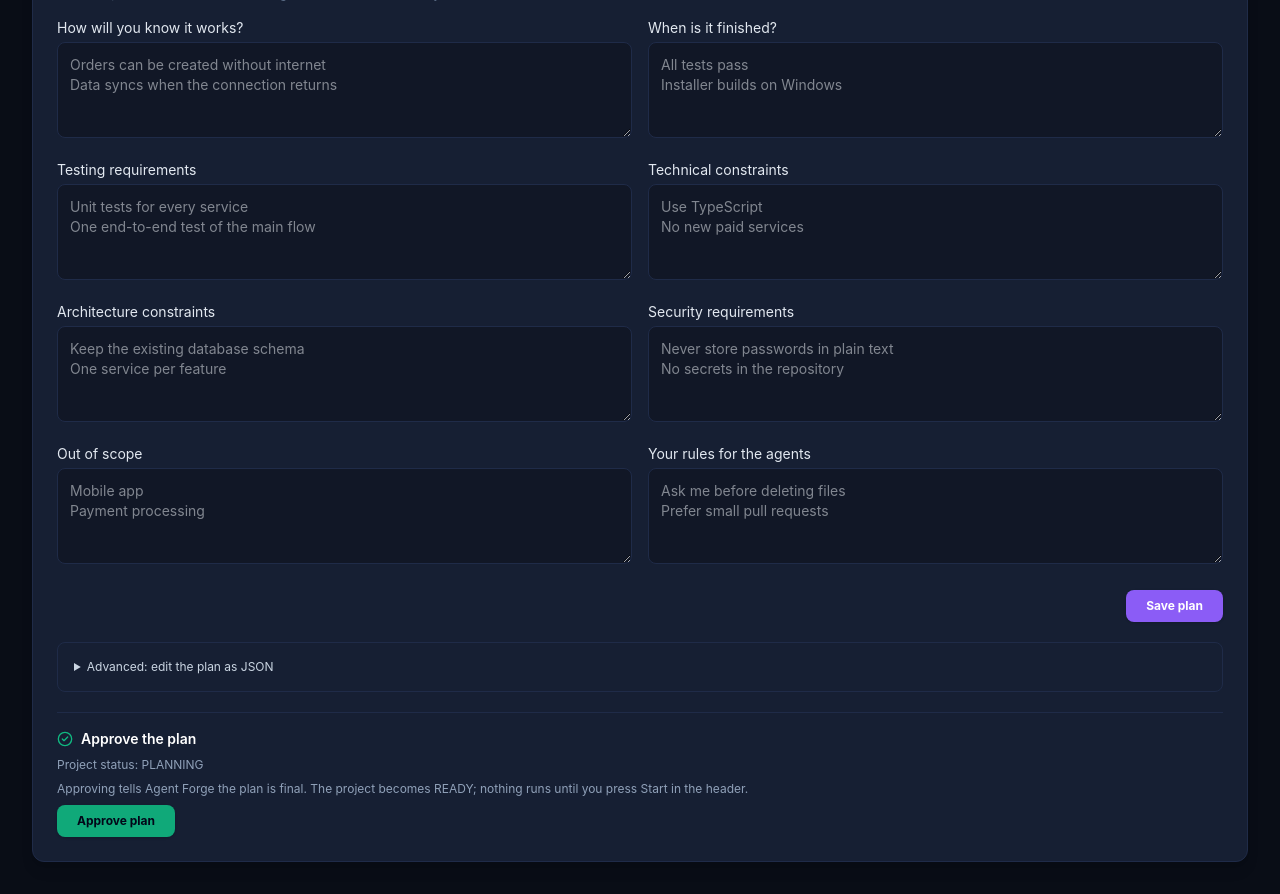
Scenario: guided plan form and approval through the real view › reports a rejected approval instead of claiming success
(page scrolled)
Click the button "Approve plan" at (116, 820), box [57,804,175,836]
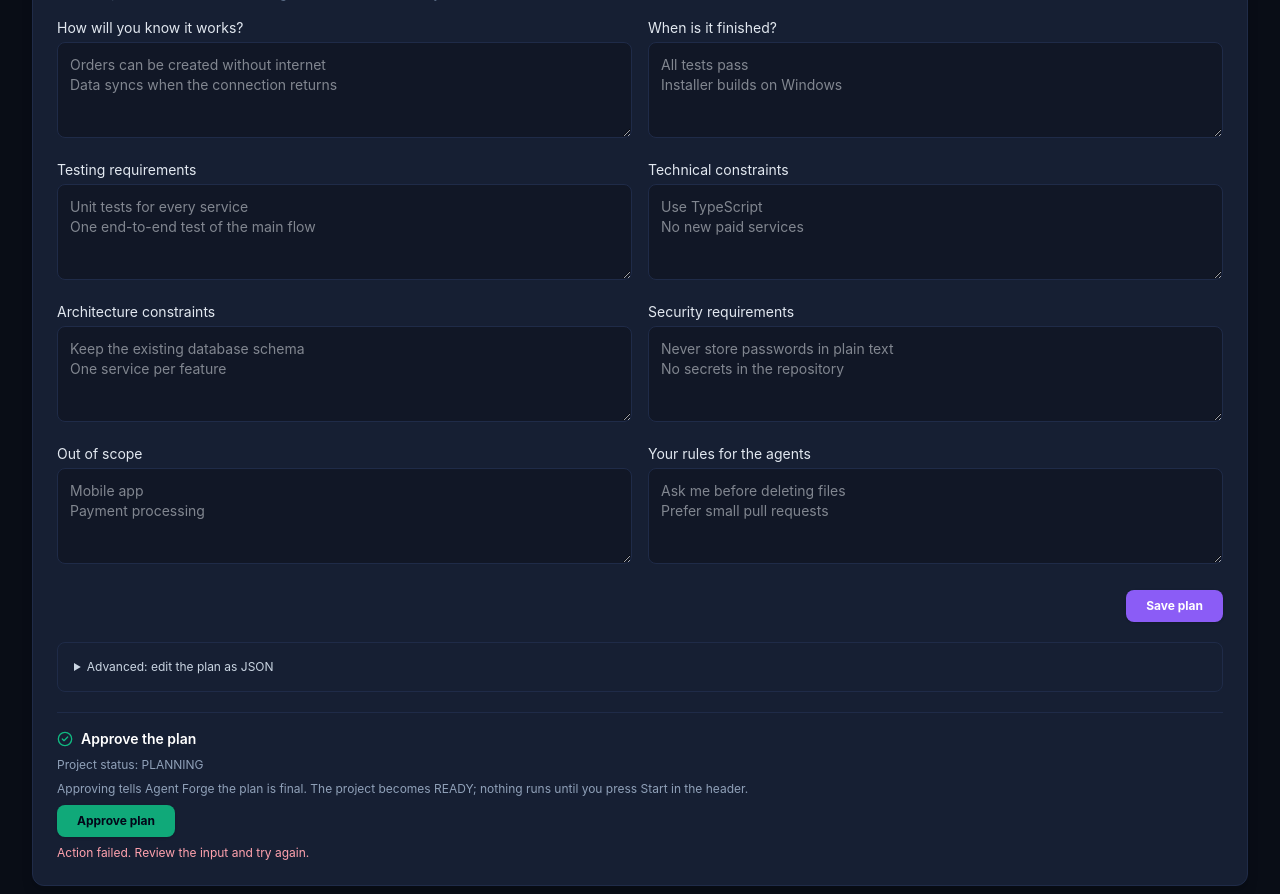
Expected: the message "Action failed. Review the input and try again." is shown, [57,844,309,860]
